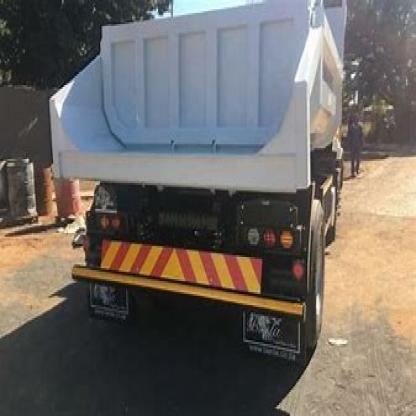dump_truck: (32, 2, 378, 383)
